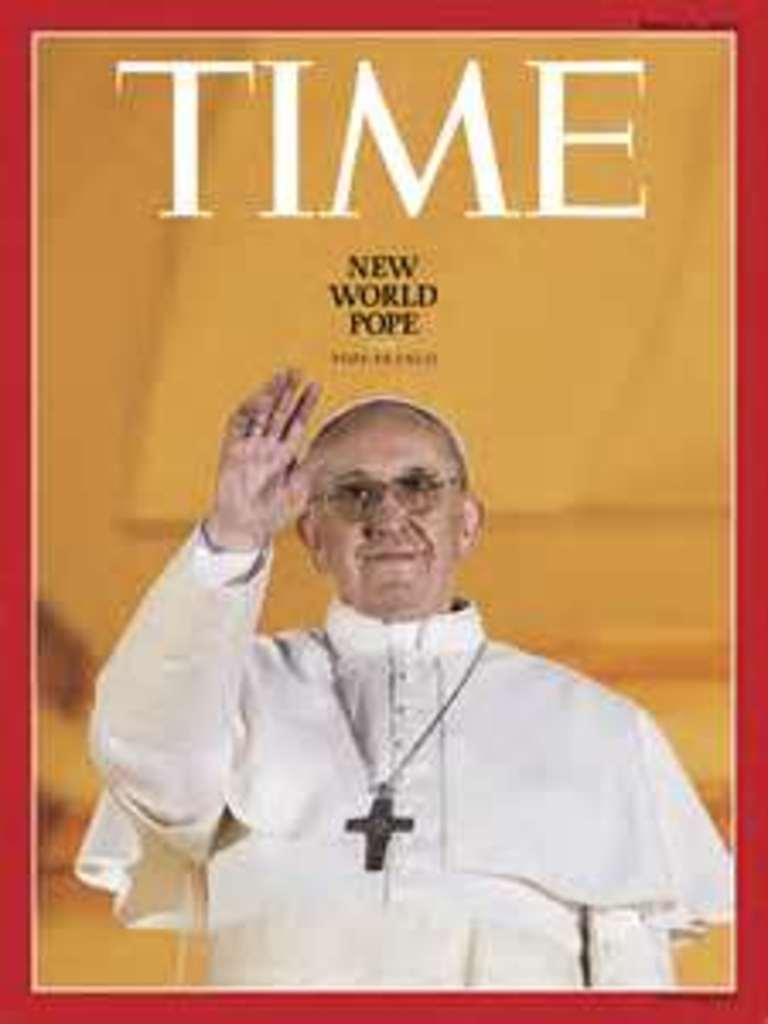Person: (73, 368, 733, 989)
